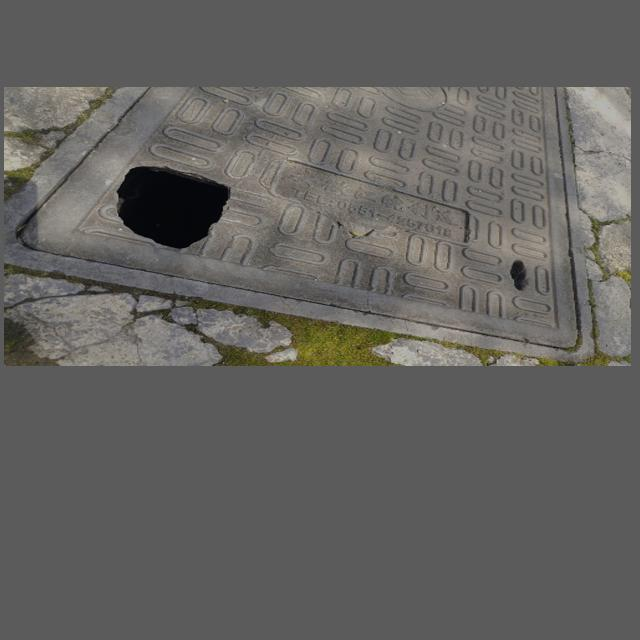broke: (85, 95, 594, 330)
